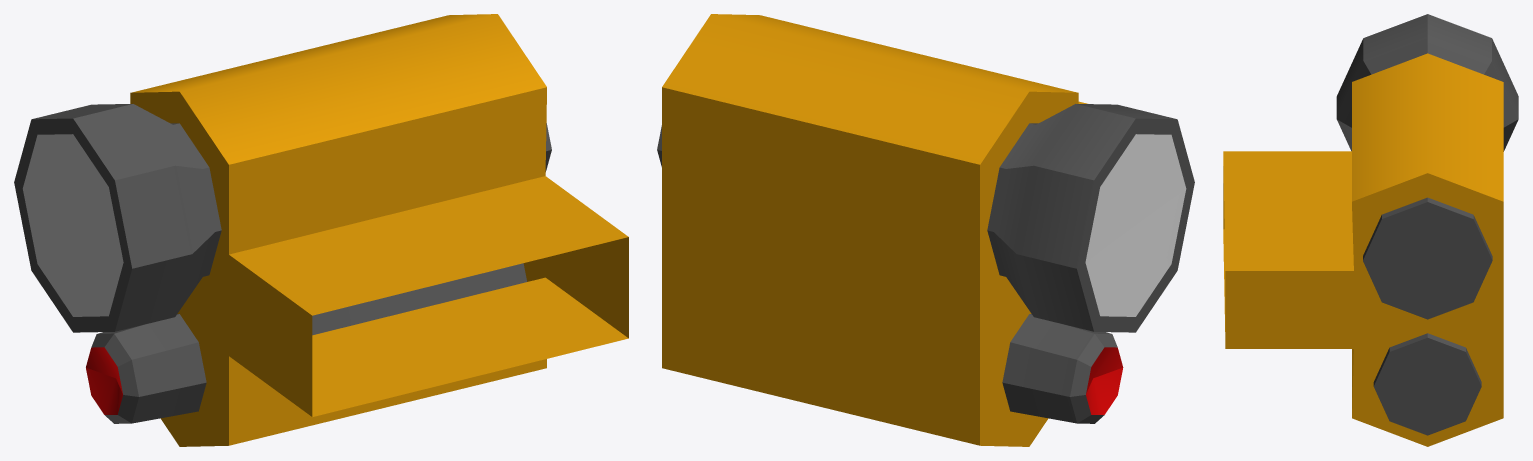
Rendered from SM_LaserComboM.fbx.
3 renders of one model, left to right at view 1: azimuth 30°, elevation 25°; view 2: azimuth 150°, elevation 25°; view 3: azimuth 270°, elevation 25°, orthographic. The views are drawn at different scales.
Parts seen in each view (by area): view 1: SM_LaserComboM; view 2: SM_LaserComboM; view 3: SM_LaserComboM.
Boxes of the visible parts, x1,y1,x2,y2 form: SM_LaserComboM: (14, 14, 628, 446); SM_LaserComboM: (657, 14, 1194, 446); SM_LaserComboM: (1223, 14, 1518, 446).
Size of the model in its own units: 4.76 by 3.7 by 3.62.
